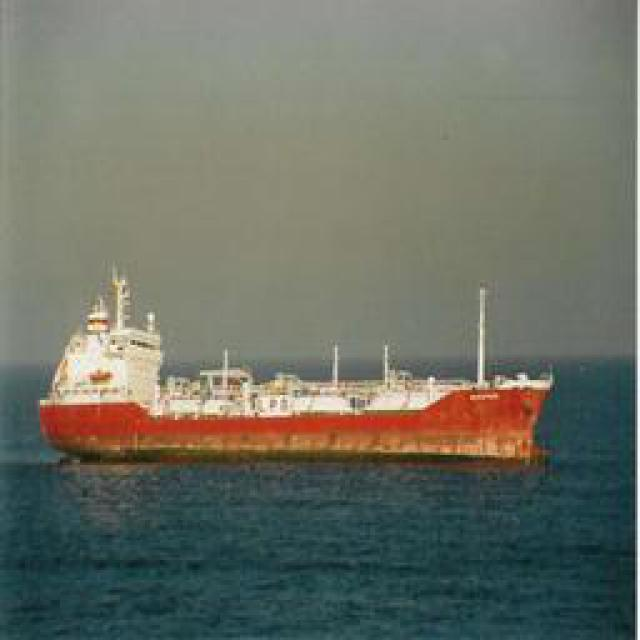Ship: (43, 272, 561, 460)
